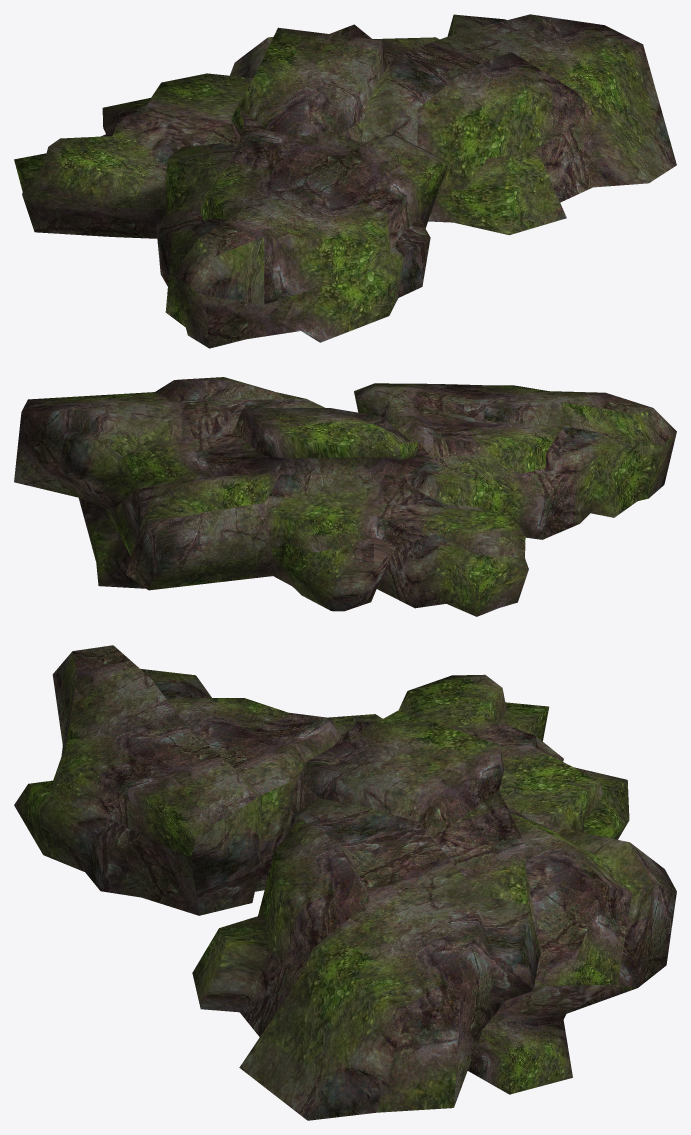
File: S_Rock_Green033.FBX
3 views of the same model, one above another, from view 1: azimuth 30°, elevation 25°; view 2: azimuth 150°, elevation 25°; view 3: azimuth 270°, elevation 25° (orthographic). The views are drawn at different scales.
Parts seen in each view (by area): view 1: S_Rock_Green033; view 2: S_Rock_Green033; view 3: S_Rock_Green033.
Part boxes in pixels (x1=…): S_Rock_Green033: x1=14, y1=14, x2=676, y2=348; S_Rock_Green033: x1=14, y1=377, x2=676, y2=616; S_Rock_Green033: x1=14, y1=645, x2=676, y2=1120.
Bounding box in the file's own units: 579 × 461 × 176.
